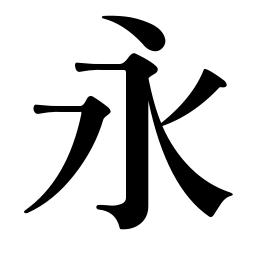D: (99, 12, 168, 50)
HSZ: (117, 51, 159, 85)
Hs: (72, 60, 110, 74)
Ne: (191, 184, 237, 221)
PNc: (149, 112, 177, 131)
PZe: (22, 195, 46, 217)
Ps: (195, 66, 230, 99)
SG: (92, 193, 152, 232)
Sm: (123, 134, 150, 167)
TPZ: (70, 94, 112, 143)
Ts: (30, 102, 65, 117)
